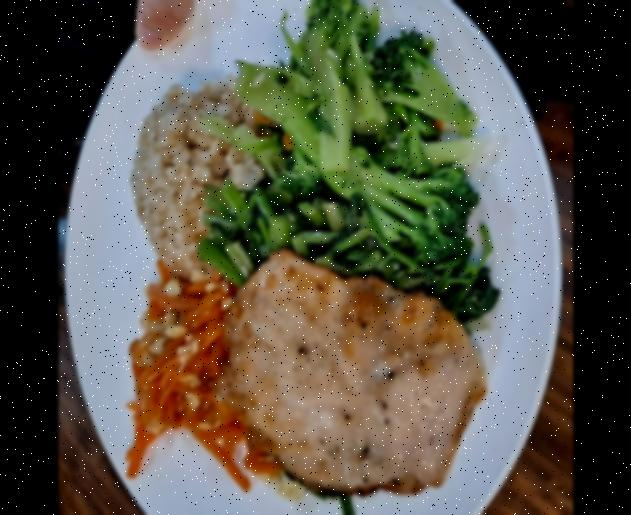big fried chicken leg: (69, 0, 564, 515)
box: (130, 81, 250, 282)
braised fish fillet: (233, 0, 475, 248), (206, 185, 496, 316), (123, 274, 276, 488)
braised pork: (224, 249, 486, 494)
